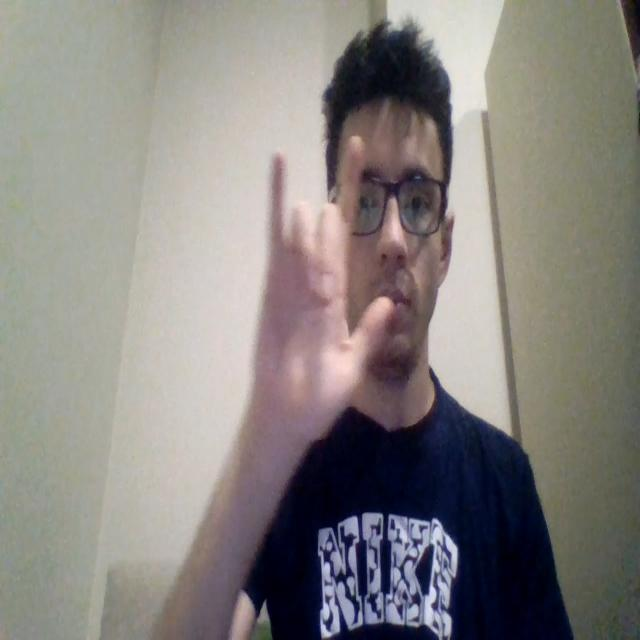iloveyou: (250, 149, 396, 448)
